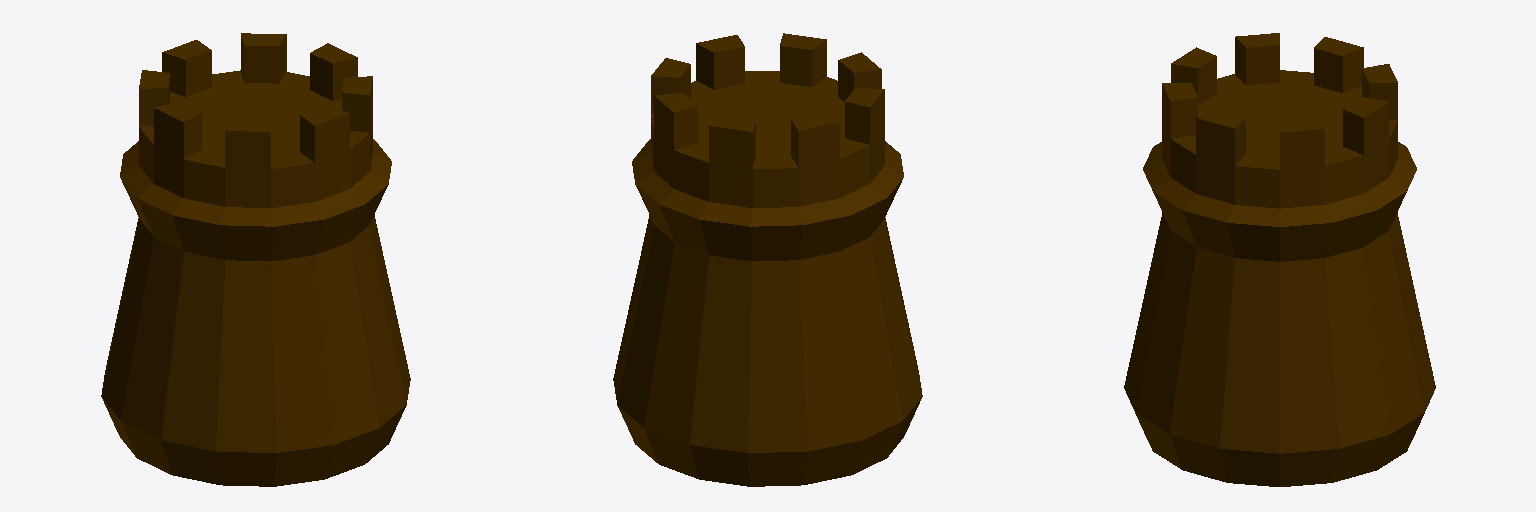
The model's file is tower1(F122).obj.
3 renders of one model, left to right at view 1: azimuth 30°, elevation 25°; view 2: azimuth 150°, elevation 25°; view 3: azimuth 270°, elevation 25°, orthographic.
Visible parts, largest first — view 1: Cylinder; view 2: Cylinder; view 3: Cylinder.
Boxes of the visible parts, box(x1,y1,x2,y2) form: Cylinder: box(101, 33, 410, 486); Cylinder: box(613, 33, 922, 486); Cylinder: box(1124, 33, 1435, 486).
Bounding box in the file's own units: 3 × 3.68 × 3.